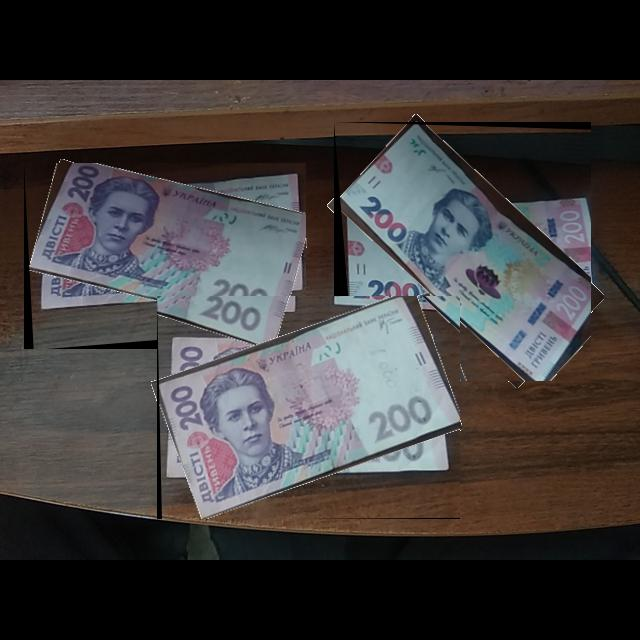200uah: (159, 296, 461, 520), (339, 125, 592, 382), (29, 163, 307, 335)
